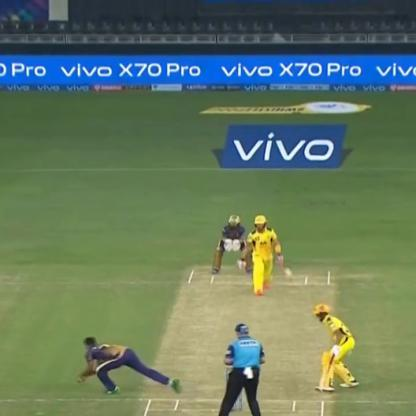pitch: (143, 262, 337, 416)
